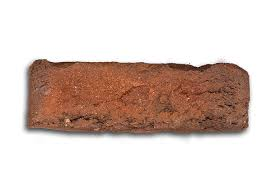brick: (28, 65, 248, 128)
